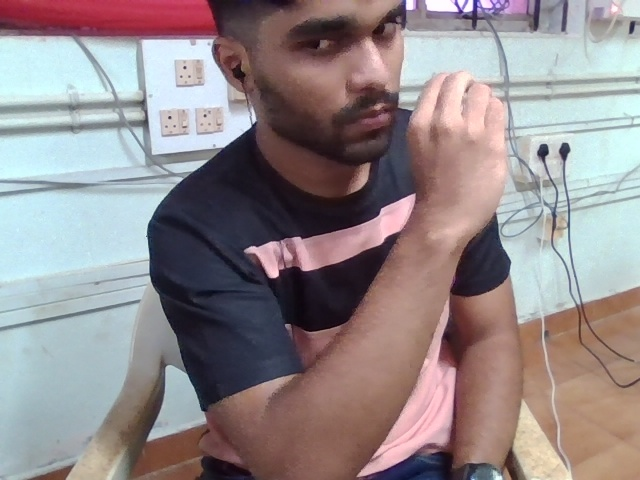Drink: (353, 46, 550, 234)
